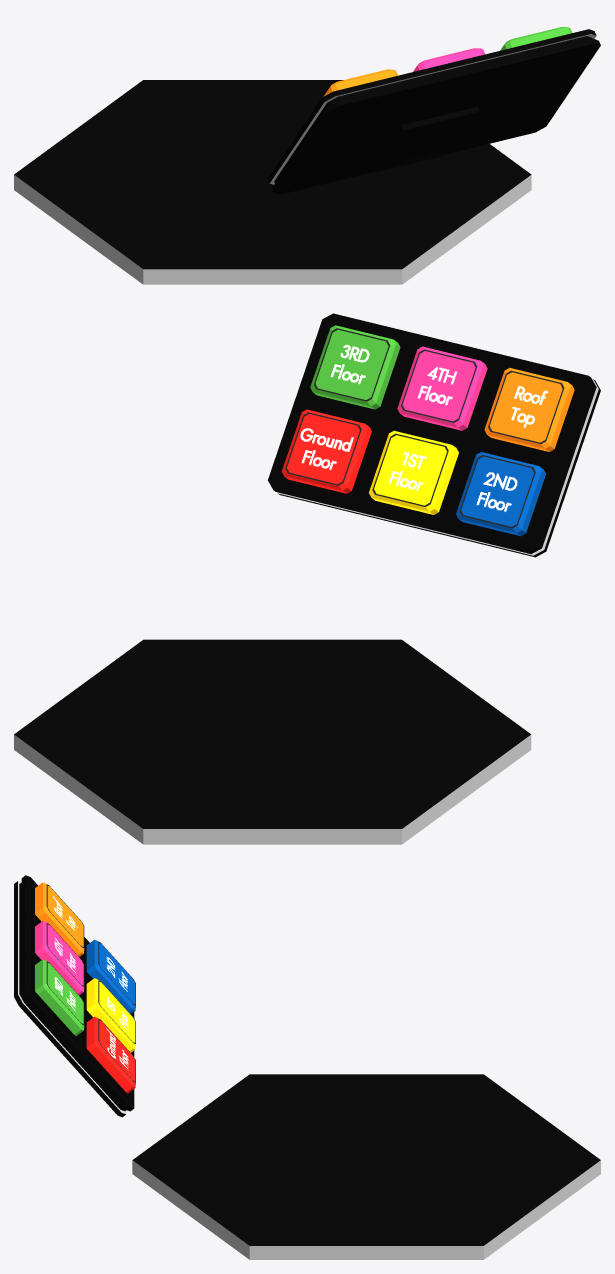
Rendered from elevator.glb.
3 renders of one model, top to bottom at view 1: azimuth 30°, elevation 25°; view 2: azimuth 150°, elevation 25°; view 3: azimuth 270°, elevation 25°, orthographic. The views are drawn at different scales.
Visible parts, largest first — view 1: Elevator; view 2: Elevator; view 3: Elevator.
Part boxes in pixels (<box>): Elevator: <box>14,27,600,284</box>; Elevator: <box>14,313,600,844</box>; Elevator: <box>14,875,600,1259</box>.
Size of what is drawn, in the model's own units: 2.89 by 1.95 by 4.18.
Materials: 3 (2 with a texture image).
